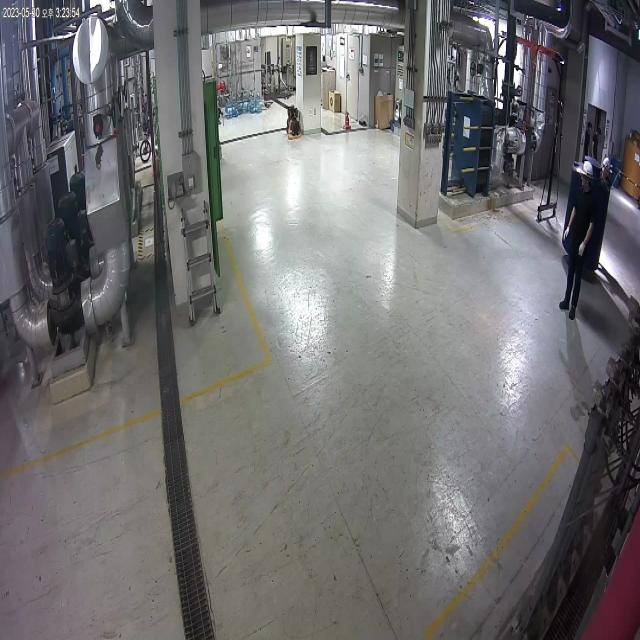Water Tank: (561, 157, 610, 283)
worker: (559, 156, 594, 323), (598, 149, 612, 185)
